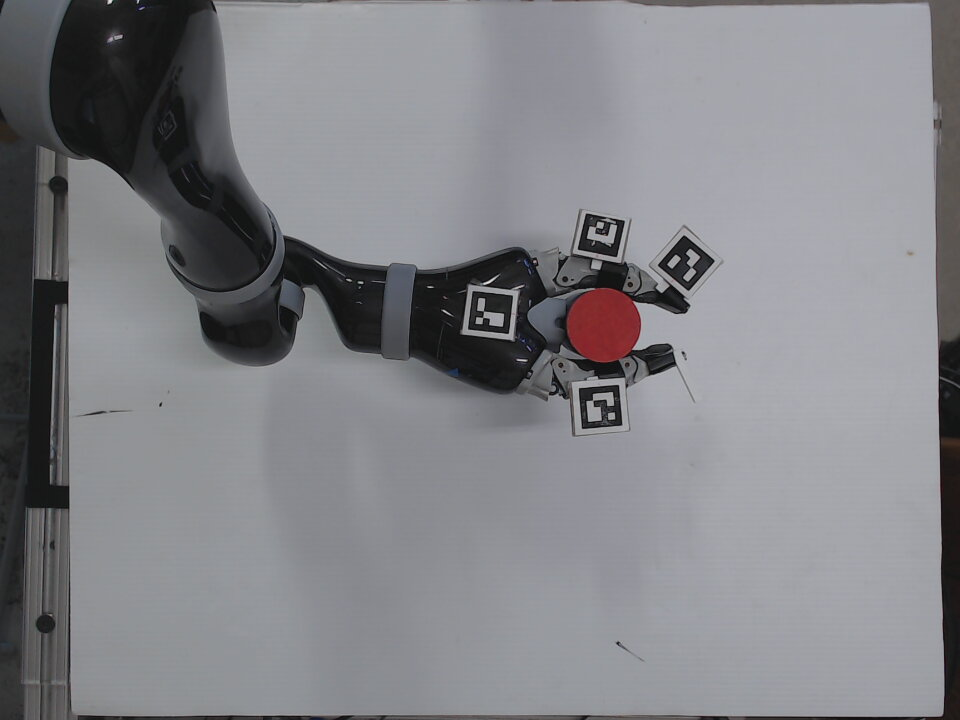cylinder: (562, 286, 644, 365)
